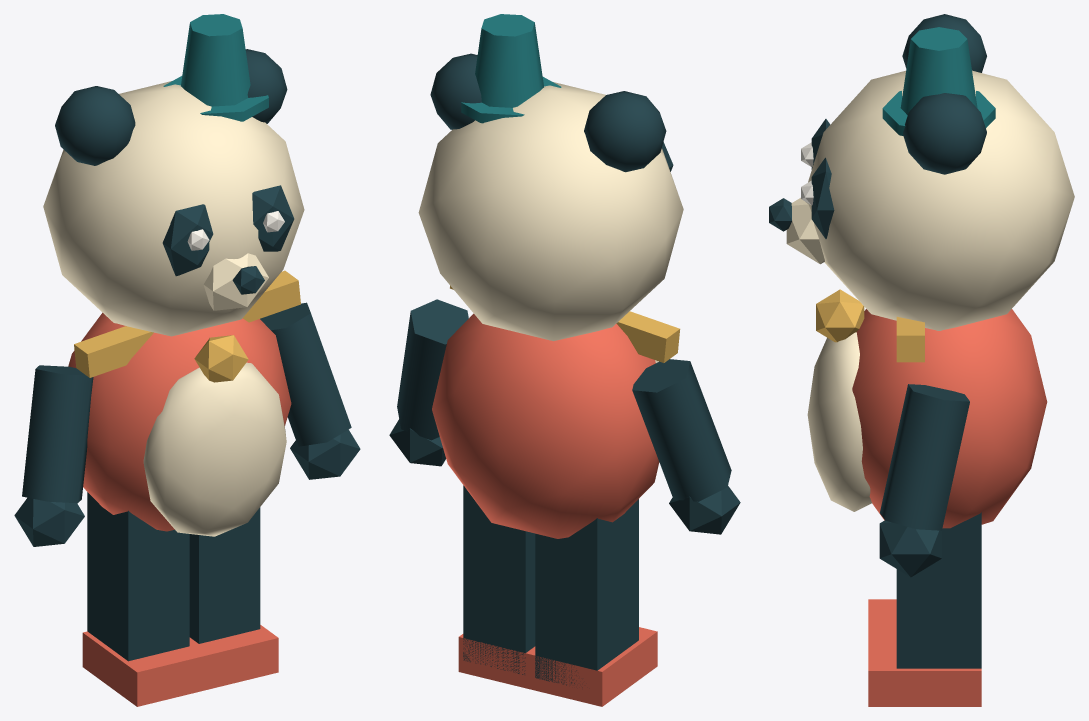
The model's file is staff_entertainer.glb.
3 renders of one model, left to right at view 1: azimuth 30°, elevation 25°; view 2: azimuth 150°, elevation 25°; view 3: azimuth 270°, elevation 25°, orthographic. The views are drawn at different scales.
Visible parts, largest first — view 1: staff_entertainer; view 2: staff_entertainer; view 3: staff_entertainer.
Boxes of the visible parts, x1=… form: staff_entertainer: x1=14, y1=14, x2=360, y2=706; staff_entertainer: x1=389, y1=14, x2=740, y2=706; staff_entertainer: x1=769, y1=14, x2=1074, y2=706.
Size of the model in its own units: 1.39 by 2.55 by 1.08.
